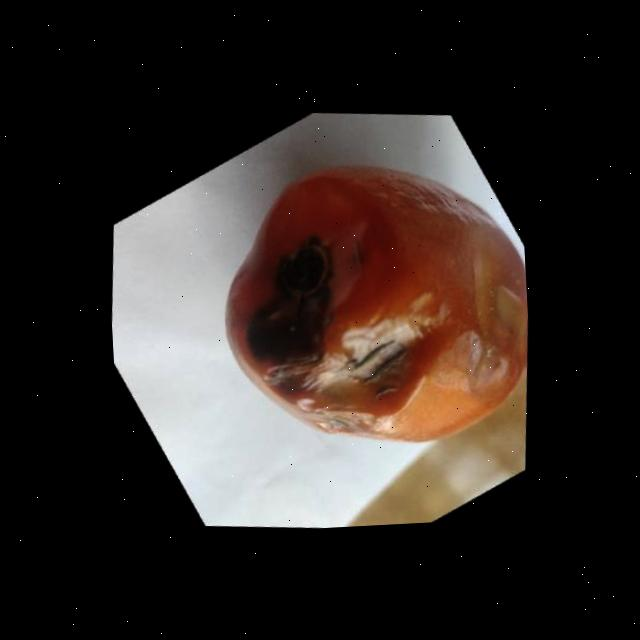tomato: (213, 152, 535, 465)
